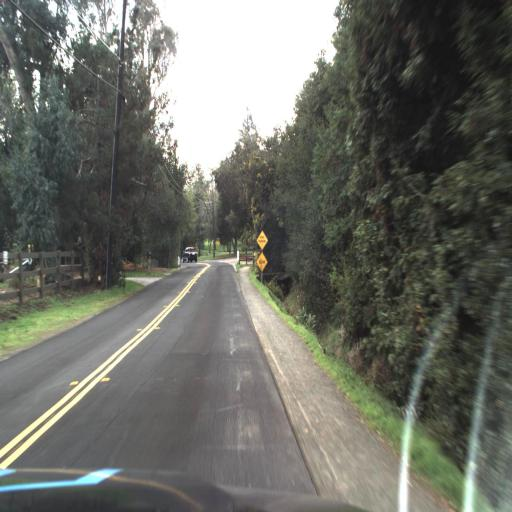car: (184, 246, 197, 263)
